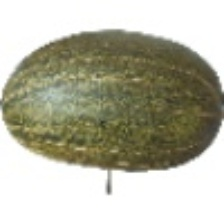honeydew: (14, 51, 202, 196)
